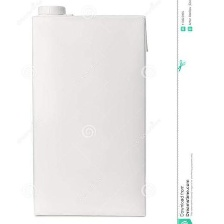carton: (26, 2, 150, 219)
